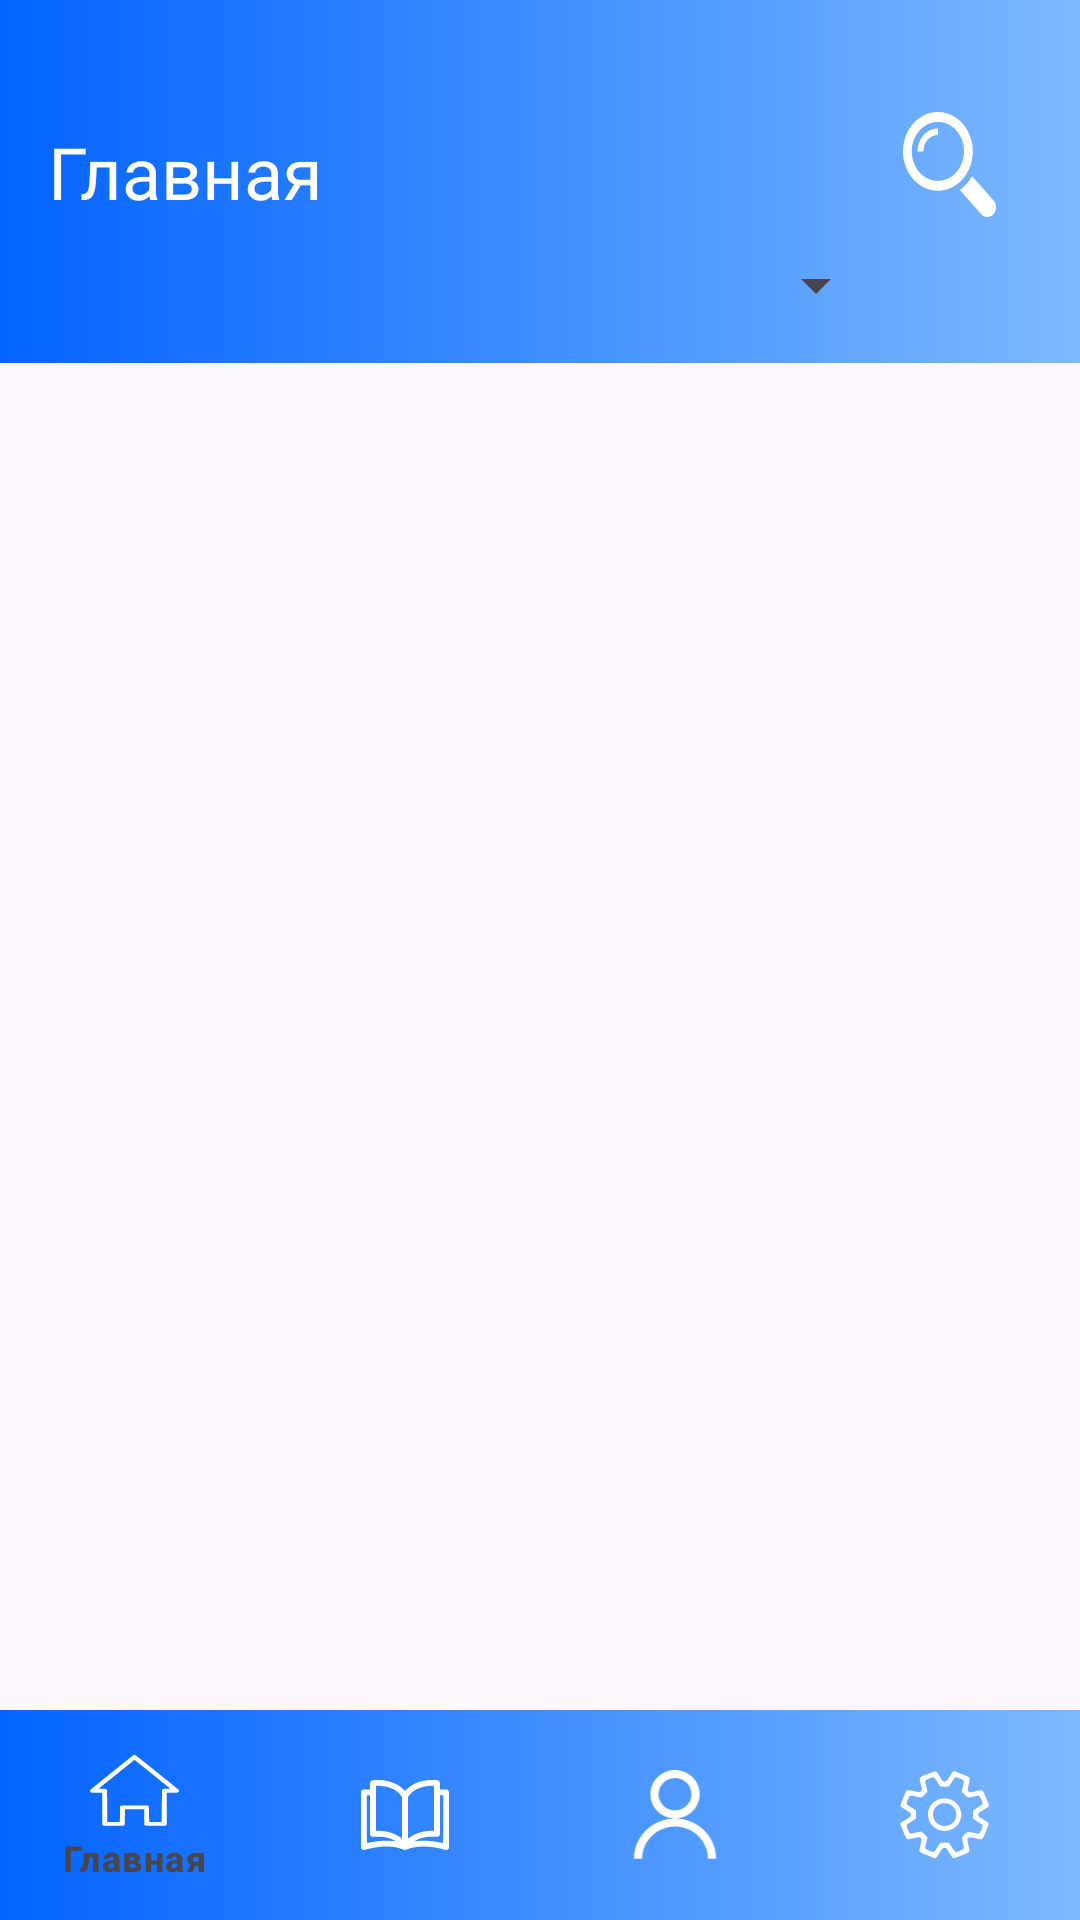

Named icons in this screenshot (1080w x 1920h) and their centers, (x,y):
lupa: (949,164)
